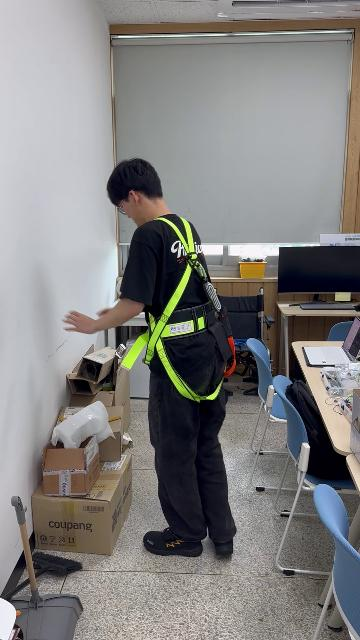helmet_not_worn: (106, 159, 171, 209)
shoe_worn: (143, 527, 203, 556), (214, 539, 234, 555)
vest_worn: (120, 224, 227, 397)
